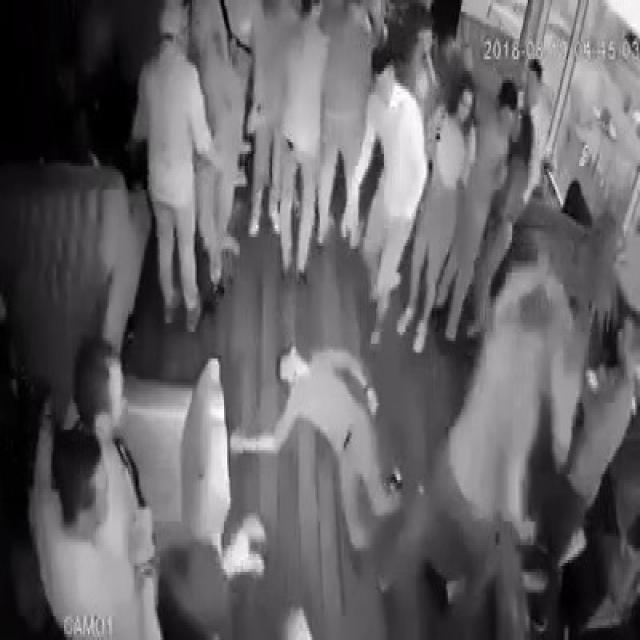fight: (442, 236, 578, 640)
